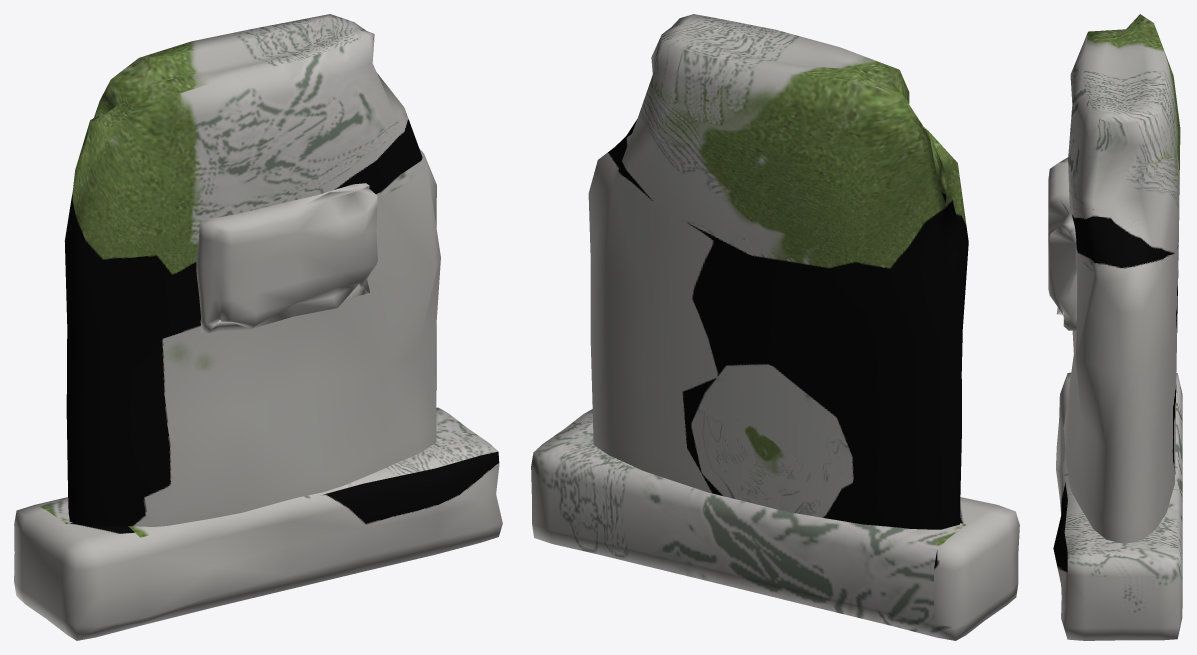
The model's file is grave_PolJuan.FBX.
3 renders of one model, left to right at view 1: azimuth 30°, elevation 25°; view 2: azimuth 150°, elevation 25°; view 3: azimuth 270°, elevation 25°, orthographic. The views are drawn at different scales.
Parts seen in each view (by area): view 1: P2_Grave_PROP; view 2: P2_Grave_PROP; view 3: P2_Grave_PROP.
Boxes of the visible parts, x1,y1,x2,y2 form: P2_Grave_PROP: (14,14,502,640); P2_Grave_PROP: (531,14,1019,640); P2_Grave_PROP: (1048,14,1182,640).
Size of the model in its own units: 40.09 by 46.81 by 11.82.
